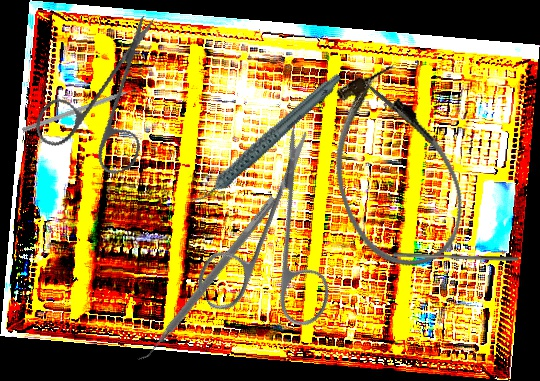Cannula: (307, 56, 480, 283)
Chopper: (21, 84, 146, 140)
Handpiece: (170, 71, 361, 206)
Iris Scissors: (153, 123, 393, 364), (12, 13, 197, 193)
Pusher: (393, 252, 519, 261)
Spatula Surgical: (133, 189, 278, 368), (346, 66, 438, 146)
